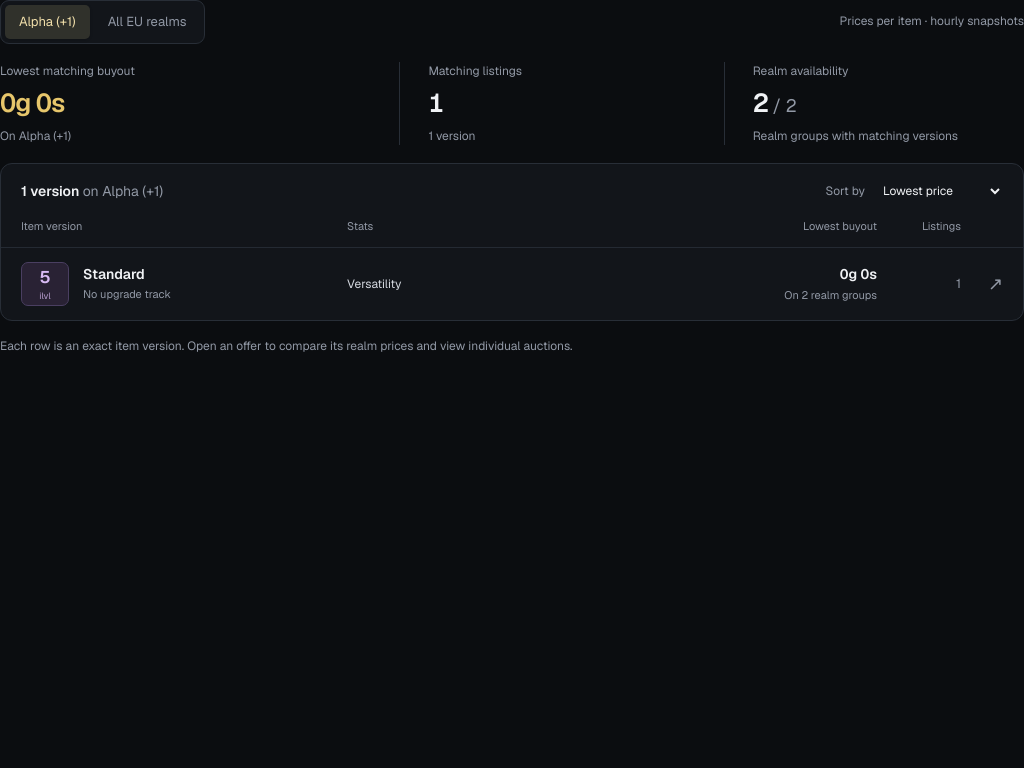
it: a single untracked version has no irrelevant filters and its listings open in place
What coordinates should you click on to do the following:
click the button with aria-label "View listings for ilvl 5"
I would click on:
 (45, 284)
Its box is [1,246,1023,320].
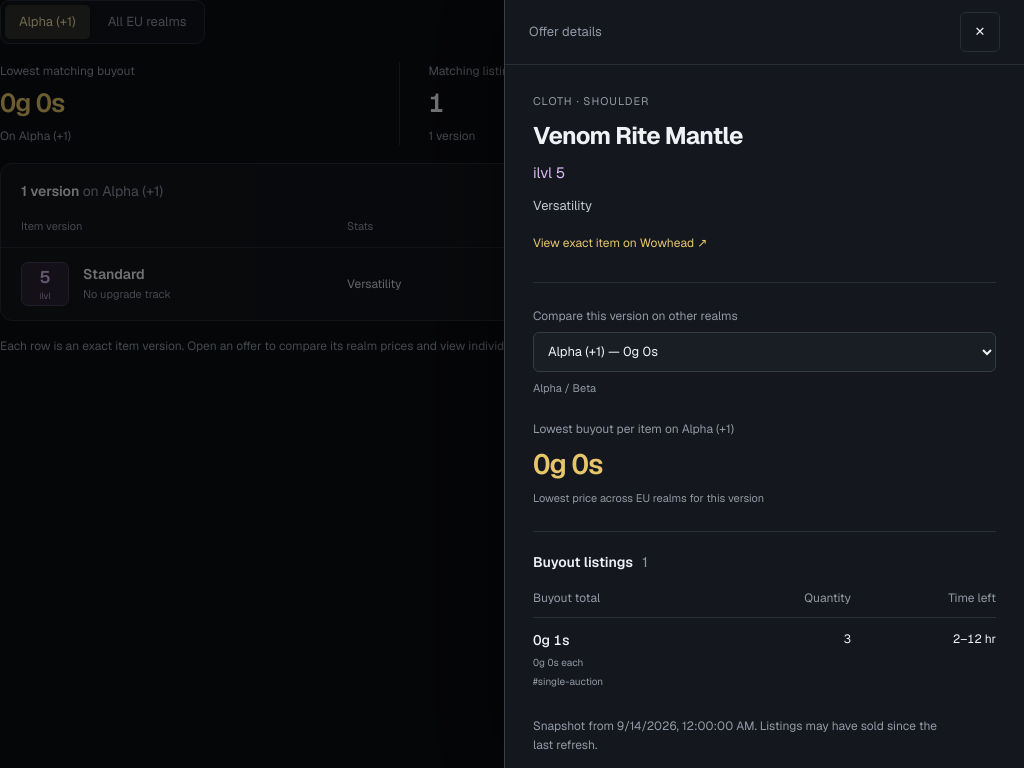
Now the link "#single-auction" is shown, box [533,674,603,688]
